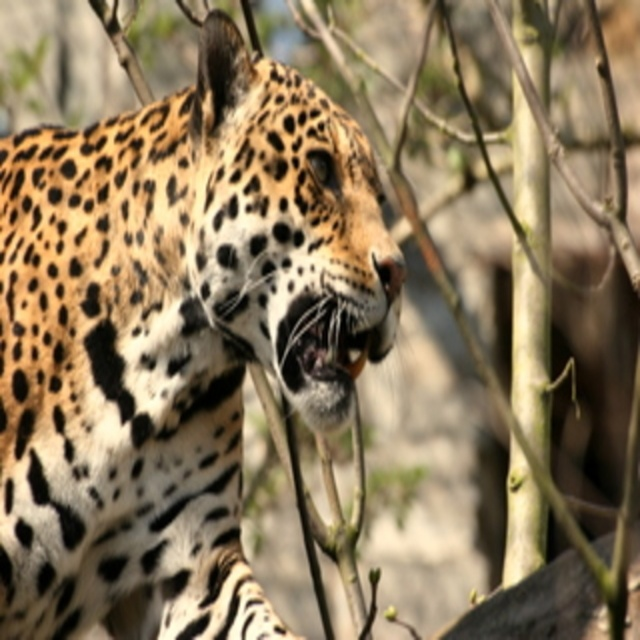Jaguar: (0, 6, 414, 637)
